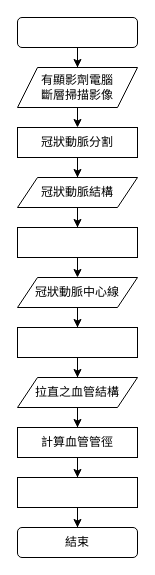
The diagram is 155 pixels wide and 575 high, and some of its shapes have lost their labels. The shapes that lost their labels are listed below. From the top down, each one's centre as x and y in pixels, then its label:
At point (77, 32): "開始".
At point (77, 242): "細線化處理".
At point (77, 342): "利用Curved Planar Reformation進行轉換".
At point (77, 492): "將結果視覺化呈現".
